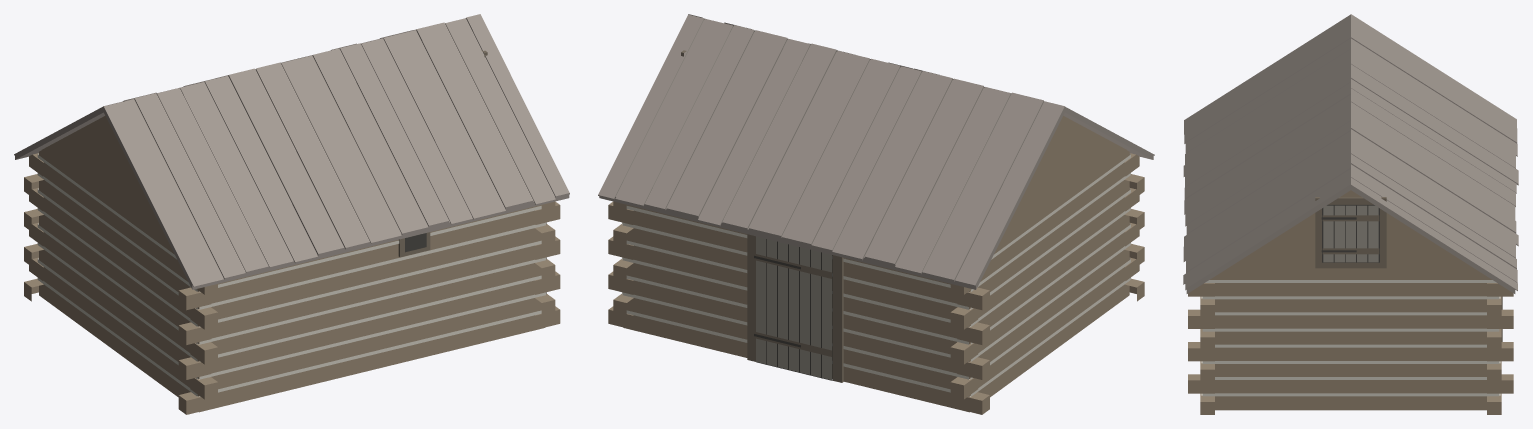
The model's file is beaubien_barn__converted_1817.glb.
3 views of the same model, side by side, from view 1: azimuth 30°, elevation 25°; view 2: azimuth 150°, elevation 25°; view 3: azimuth 270°, elevation 25° (orthographic). The views are drawn at different scales.
Visible parts, largest first — view 1: beaubien_barn__converted_1817; view 2: beaubien_barn__converted_1817; view 3: beaubien_barn__converted_1817.
Part boxes in pixels (x1,y1,x2,y2): beaubien_barn__converted_1817: (14,14,569,414); beaubien_barn__converted_1817: (598,14,1154,414); beaubien_barn__converted_1817: (1183,14,1518,414).
Bounding box in the file's own units: 6.63 × 4.24 × 5.52.
